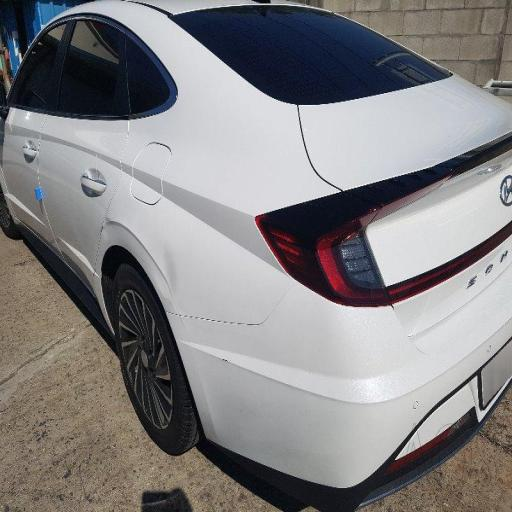broken: (180, 271, 311, 377)
dent: (119, 204, 195, 311)
